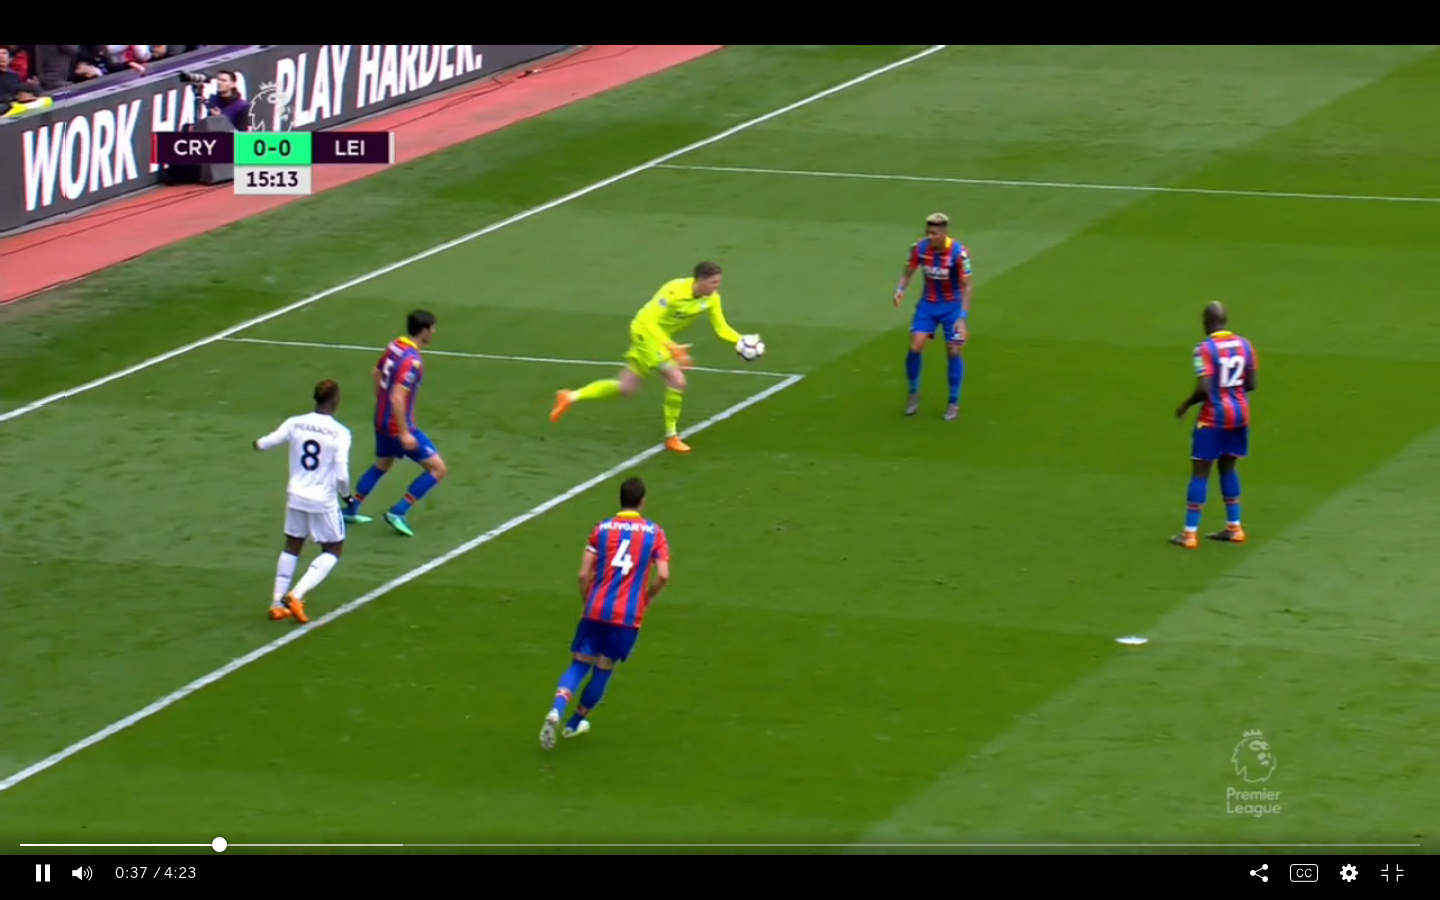soccer player: (547, 260, 767, 462), (535, 477, 673, 757), (342, 302, 459, 546), (247, 374, 358, 629), (1168, 292, 1265, 563), (888, 209, 975, 432)
soccerball: (732, 332, 770, 366)
